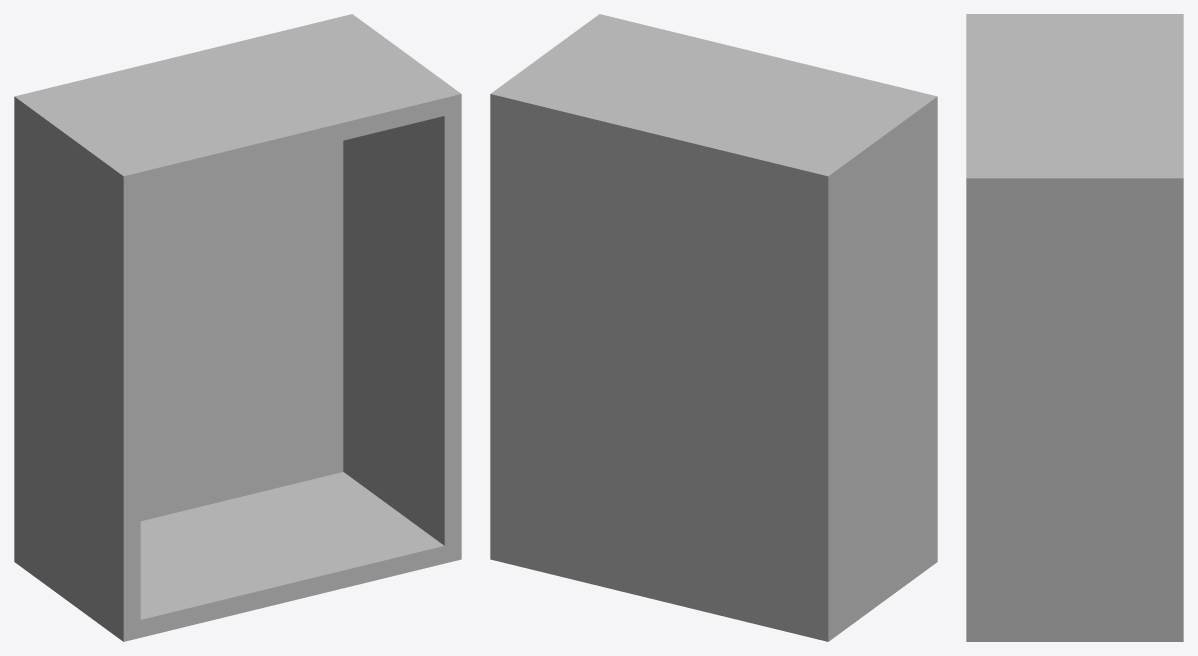
File: Itr_Wardrobe3_Body2_06.FBX
The picture shows the model from 3 angles, left to right: view 1: azimuth 30°, elevation 25°; view 2: azimuth 150°, elevation 25°; view 3: azimuth 270°, elevation 25°; orthographic projection.
Visible parts, largest first — view 1: Itr_Wardrobe3_Body2_06; view 2: Itr_Wardrobe3_Body2_06; view 3: Itr_Wardrobe3_Body2_06.
Boxes of the visible parts, left/top/right/bottom form: Itr_Wardrobe3_Body2_06: left=14, top=14, right=461, bottom=641; Itr_Wardrobe3_Body2_06: left=490, top=14, right=937, bottom=641; Itr_Wardrobe3_Body2_06: left=966, top=14, right=1183, bottom=641.
Bounding box in the file's own units: 43.75 × 57.59 × 24.49.
